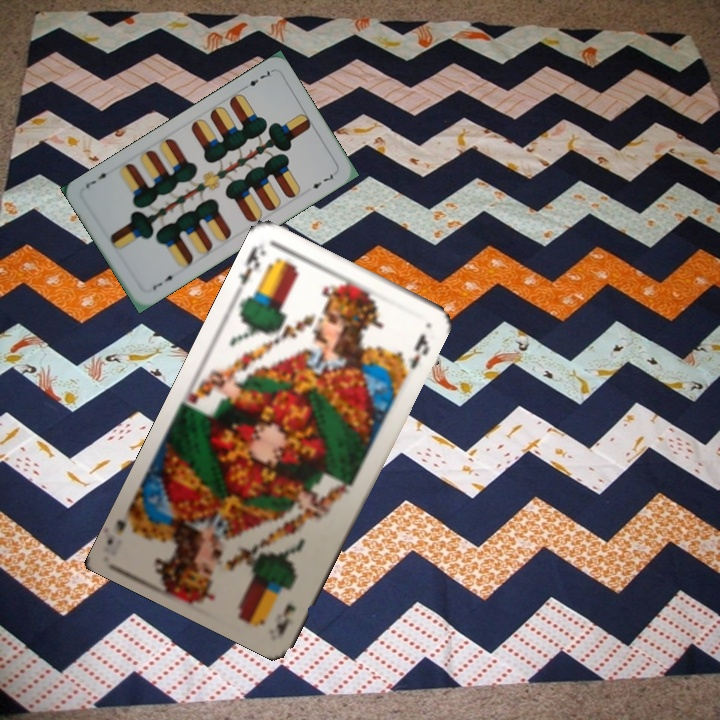E7: (238, 66, 275, 93), (148, 270, 180, 292)
EK: (234, 238, 269, 288), (272, 599, 299, 636)
